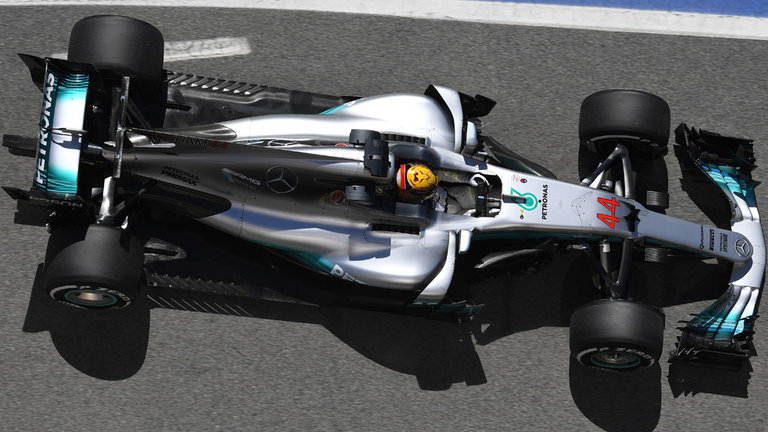f1_car: (12, 9, 768, 400)
